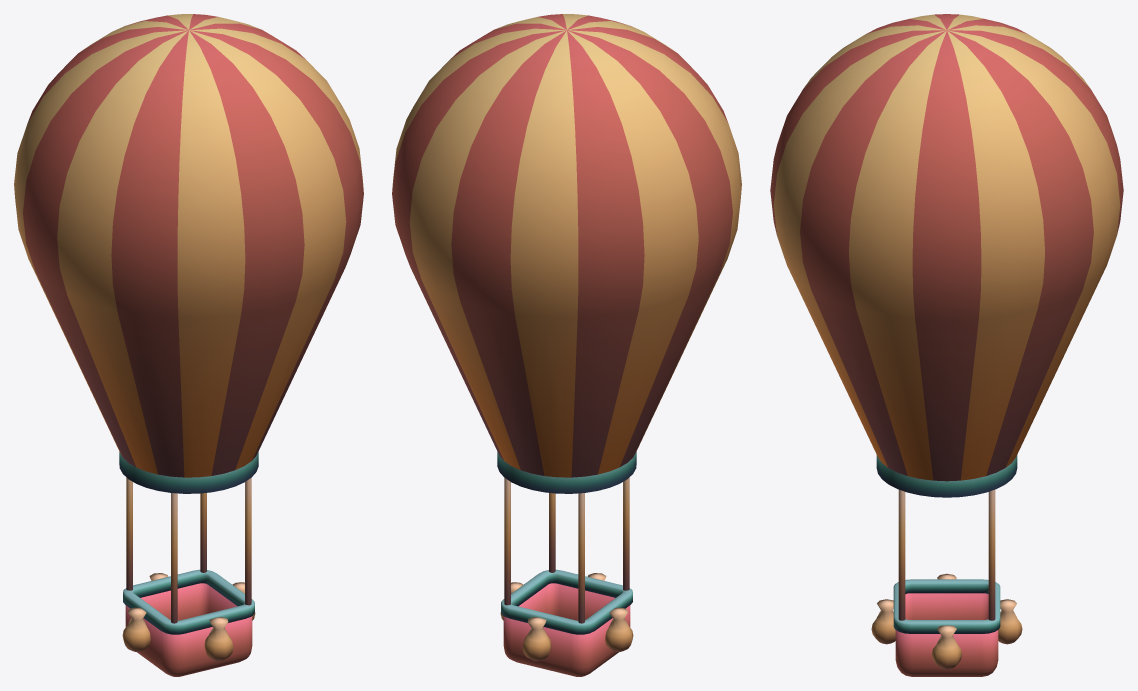
The model's file is SM_HotAirBalloon.fbx.
3 renders of one model, left to right at view 1: azimuth 30°, elevation 25°; view 2: azimuth 150°, elevation 25°; view 3: azimuth 270°, elevation 25°, orthographic.
Parts seen in each view (by area): view 1: Sphere, Cube, Cube.001, Cylinder.002, Cylinder, Ballon_Bag; view 2: Sphere, Cube, Cube.001, Cylinder.002, Cylinder, Ballon_Bag; view 3: Sphere, Cube, Cube.001, Ballon_Bag, Cylinder, Cylinder.002.
Boxes of the visible parts, left/top/right/bottom form: Sphere: left=14, top=14, right=363, bottom=477; Cube: left=125, top=583, right=252, bottom=676; Cube.001: left=123, top=569, right=254, bottom=634; Cylinder.002: left=126, top=477, right=251, bottom=623; Cylinder: left=119, top=452, right=258, bottom=493; Ballon_Bag: left=122, top=573, right=255, bottom=661; Sphere: left=392, top=14, right=741, bottom=477; Cube: left=503, top=583, right=630, bottom=676; Cube.001: left=501, top=569, right=632, bottom=634; Cylinder.002: left=504, top=477, right=629, bottom=623; Cylinder: left=497, top=452, right=636, bottom=493; Ballon_Bag: left=500, top=573, right=633, bottom=661; Sphere: left=770, top=14, right=1123, bottom=481; Cube: left=895, top=593, right=998, bottom=676; Cube.001: left=893, top=579, right=1000, bottom=633; Ballon_Bag: left=871, top=573, right=1022, bottom=669; Cylinder: left=876, top=455, right=1017, bottom=497; Cylinder.002: left=898, top=489, right=995, bottom=620.
Bounding box in the file's own units: 200 × 394 × 200.
